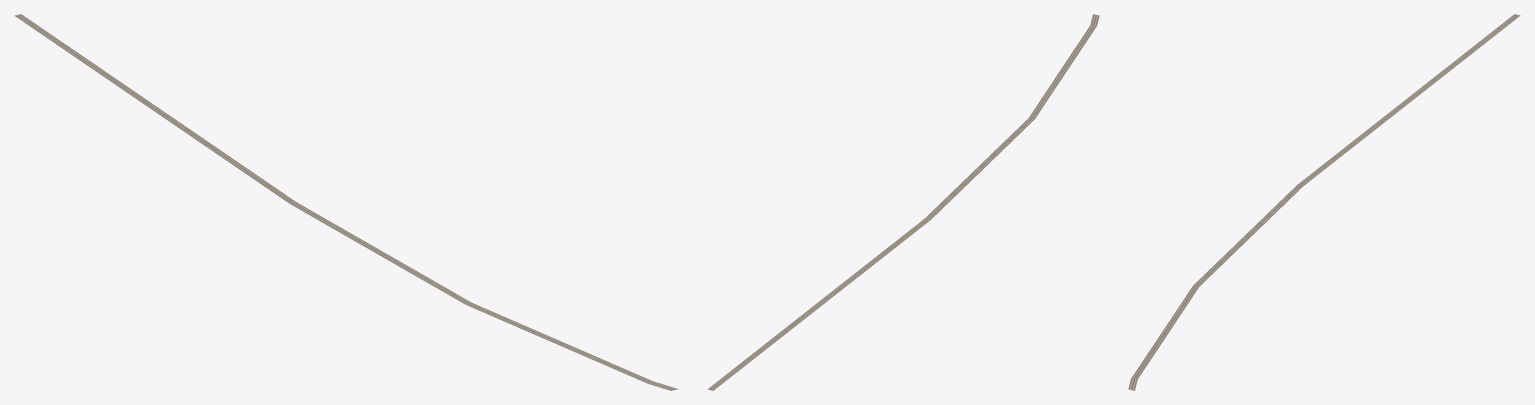
3 renders of one model, left to right at view 1: azimuth 30°, elevation 25°; view 2: azimuth 150°, elevation 25°; view 3: azimuth 330°, elevation 25°, orthographic. The views are drawn at different scales.
Parts seen in each view (by area): view 1: rail; view 2: rail; view 3: rail.
Boxes of the visible parts, <box> form: rail: <box>14,14,678,390</box>; rail: <box>707,14,1099,390</box>; rail: <box>1128,14,1520,390</box>.
Size of the model in its own units: 60.88 by 0.04 by 500.
